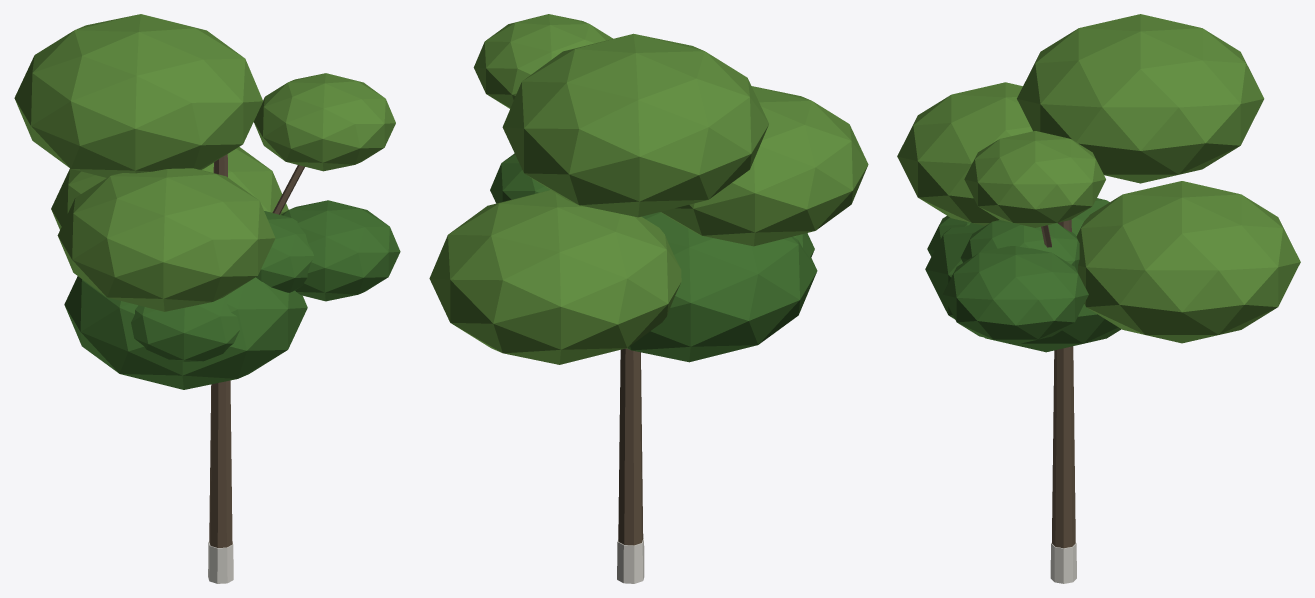
The model's file is street_tree_a.glb.
The picture shows the model from 3 angles, left to right: view 1: azimuth 30°, elevation 25°; view 2: azimuth 150°, elevation 25°; view 3: azimuth 270°, elevation 25°; orthographic projection. The views are drawn at different scales.
Parts seen in each view (by area): view 1: tree; view 2: tree; view 3: tree.
Boxes of the visible parts, box(x1,y1,x2,y2) form: tree: box(14, 14, 400, 583); tree: box(429, 14, 868, 583); tree: box(897, 14, 1300, 583).
Bounding box in the file's own units: 9.74 × 14.95 × 10.4.
